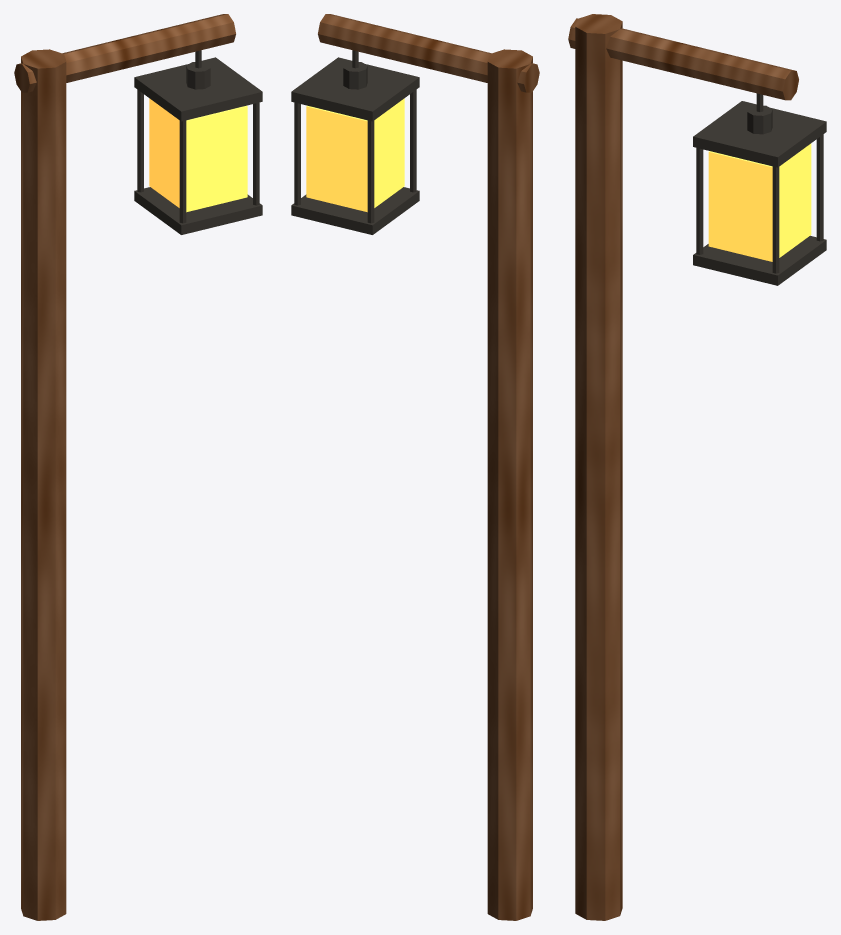
Rendered from street_lamp_big.glb.
3 renders of one model, left to right at view 1: azimuth 30°, elevation 25°; view 2: azimuth 150°, elevation 25°; view 3: azimuth 330°, elevation 25°, orthographic. The views are drawn at different scales.
Size of the model in its own units: 0.8 by 3 by 0.3.
3 materials, 2 textured.
